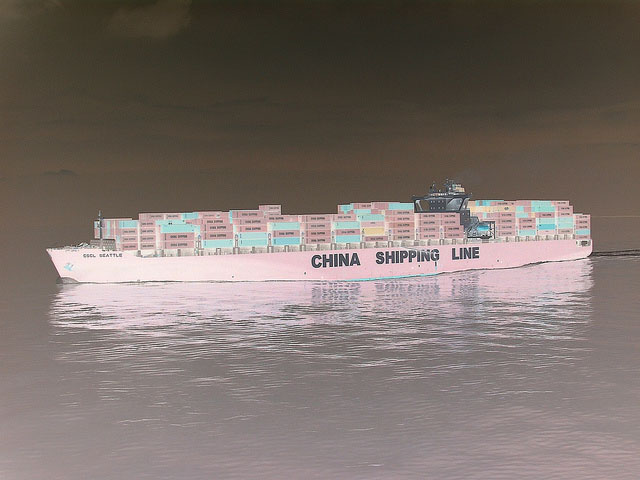container_ship: (44, 176, 591, 289)
